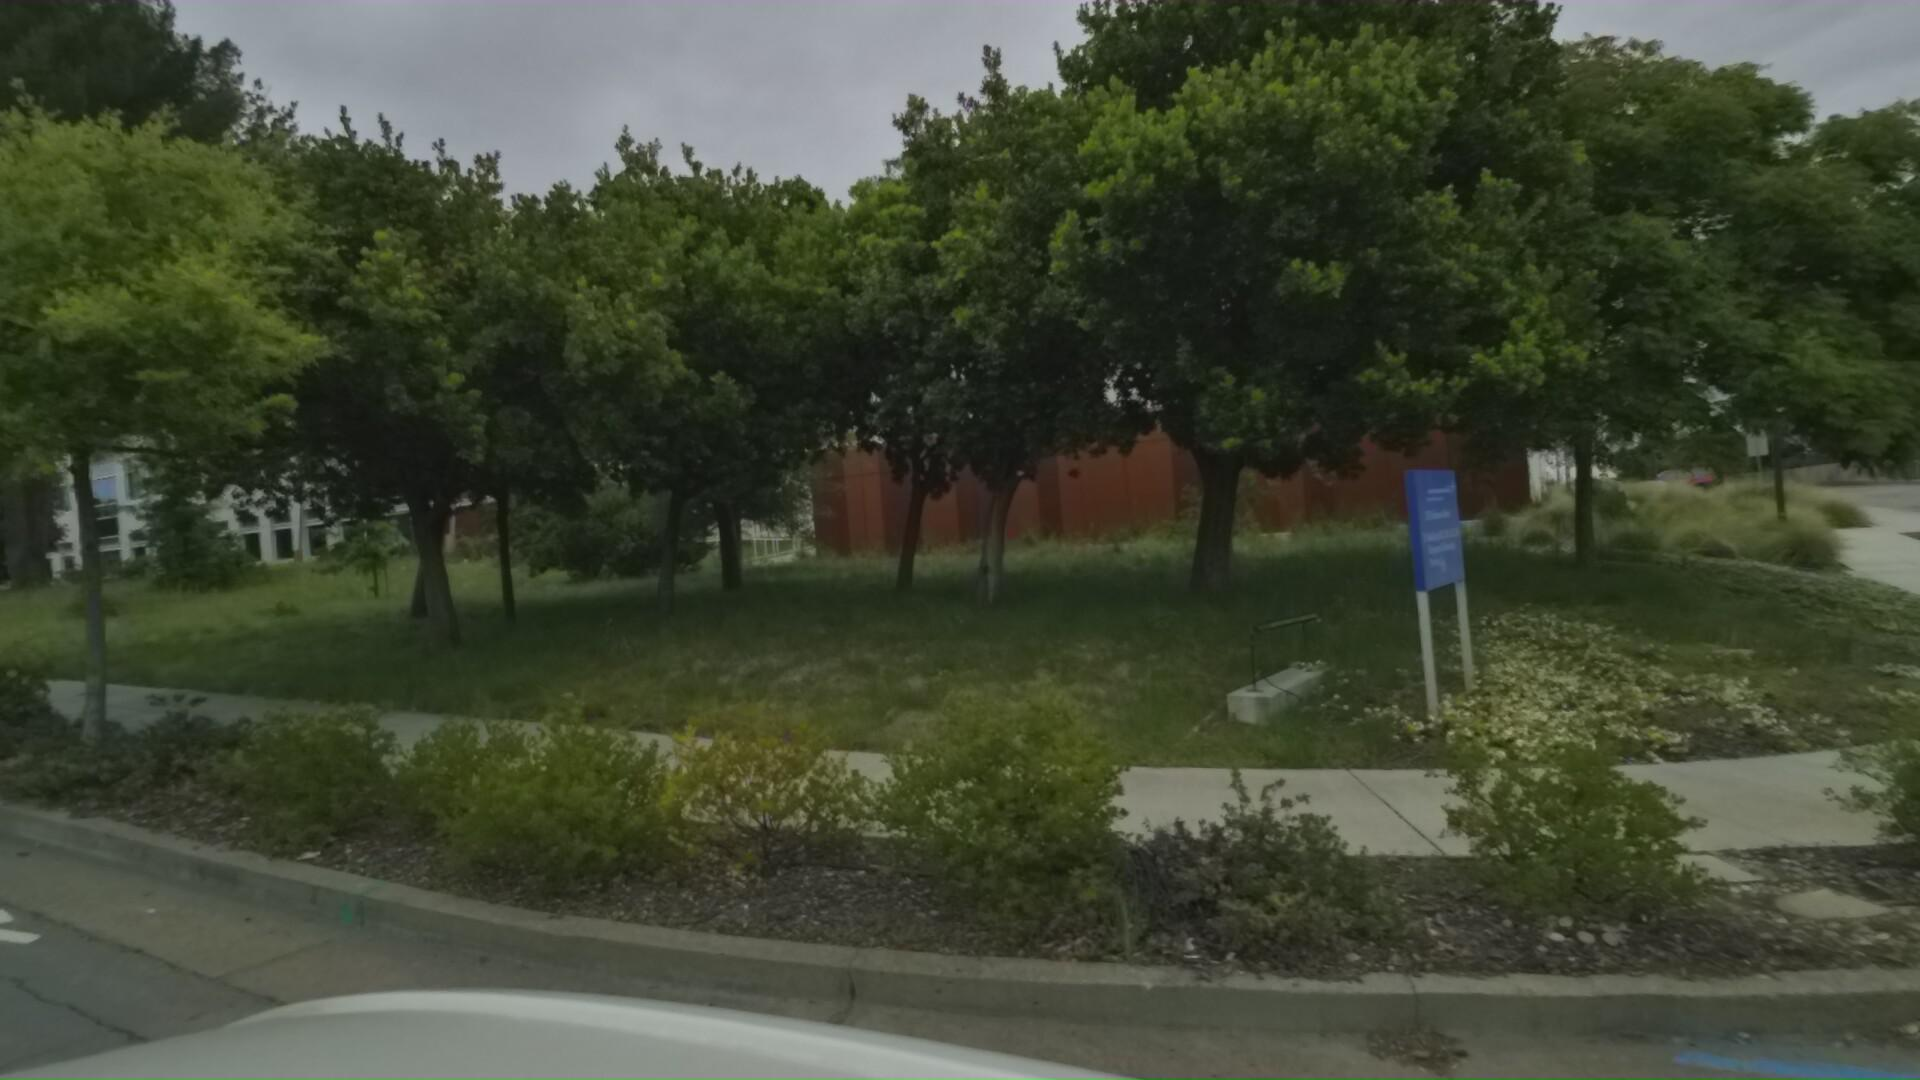car: (1625, 455, 1727, 496)
